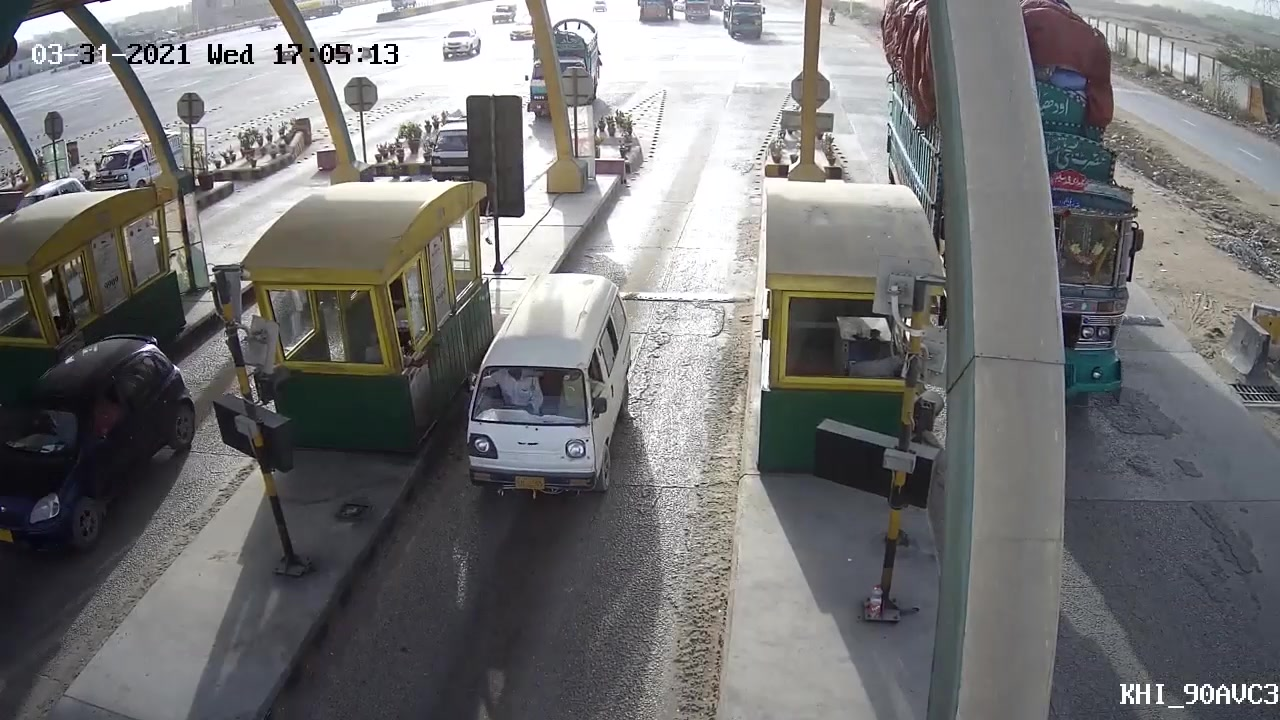F1: (459, 270, 638, 508)
